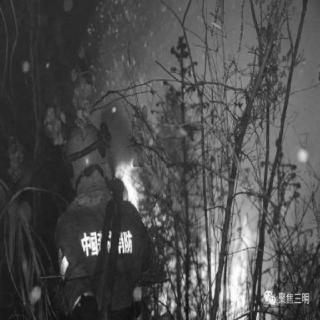Fire: (190, 192, 252, 320)
